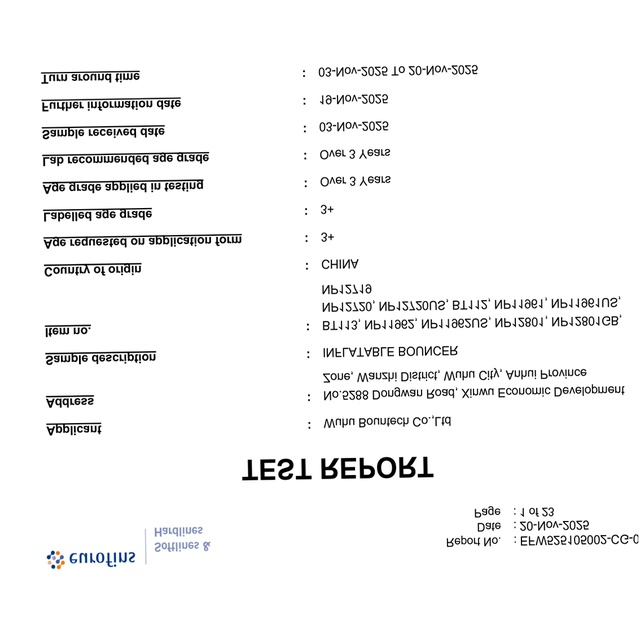eurofins: (43, 545, 138, 572)
